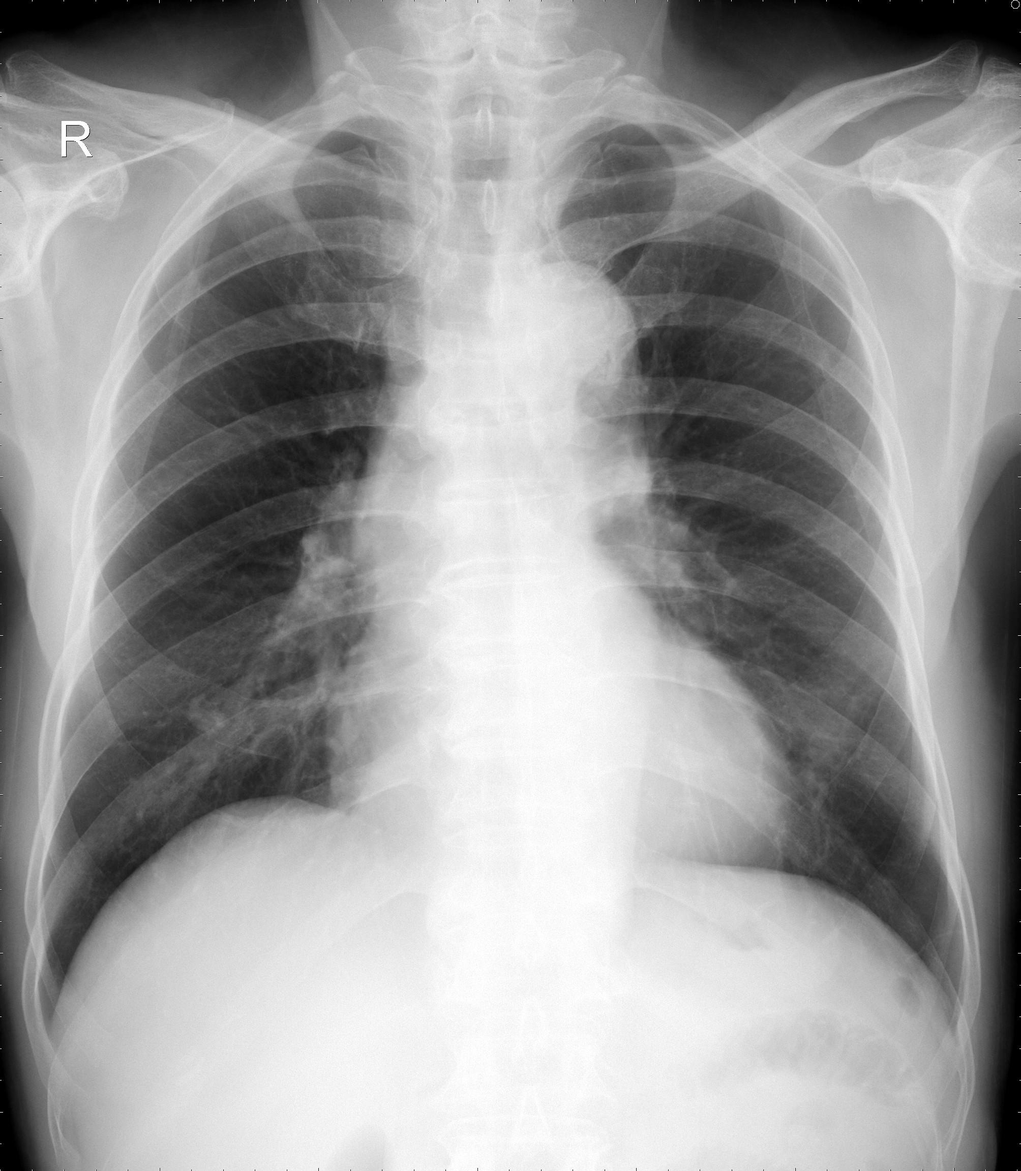Aortic enlargement: (503, 260, 633, 380)
